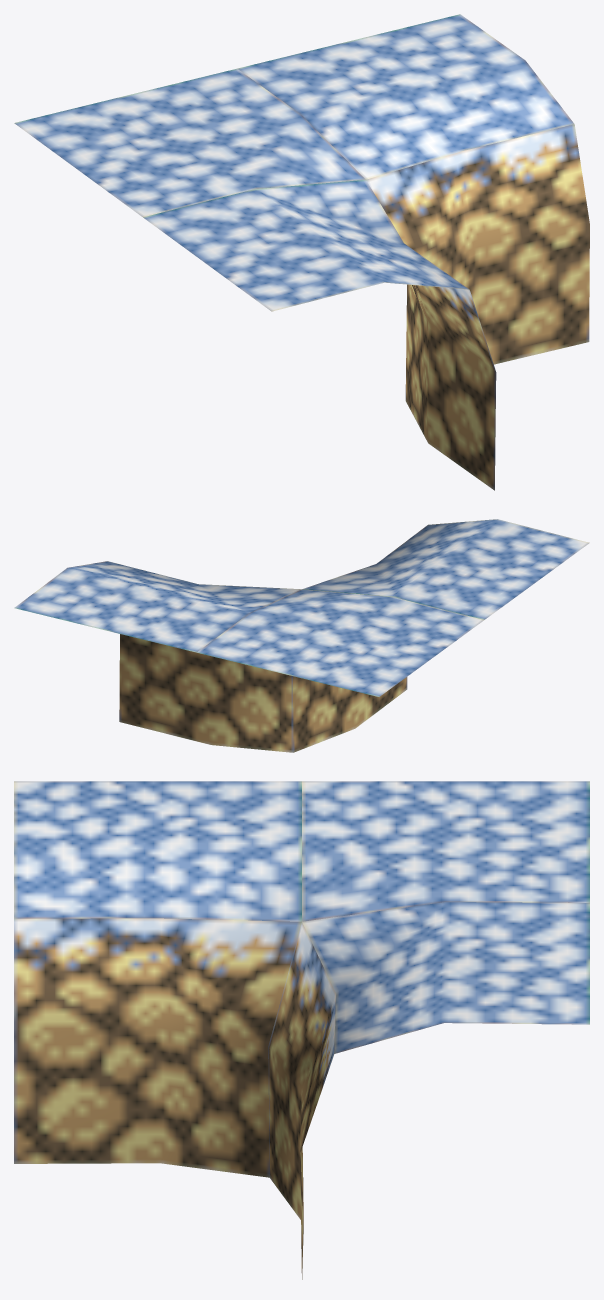
Rendered from snowDTile_innerCorner_upperLeft.fbx.
3 renders of one model, top to bottom at view 1: azimuth 30°, elevation 25°; view 2: azimuth 150°, elevation 25°; view 3: azimuth 270°, elevation 25°, orthographic. The views are drawn at different scales.
Parts seen in each view (by area): view 1: snowDTile_innerCorner_upperLeft; view 2: snowDTile_innerCorner_upperLeft; view 3: snowDTile_innerCorner_upperLeft.
Boxes of the visible parts, x1,y1,x2,y2 form: snowDTile_innerCorner_upperLeft: (14, 14, 589, 490); snowDTile_innerCorner_upperLeft: (14, 519, 589, 752); snowDTile_innerCorner_upperLeft: (14, 781, 589, 1279).
Size of the model in its own units: 2 by 1.01 by 2.
